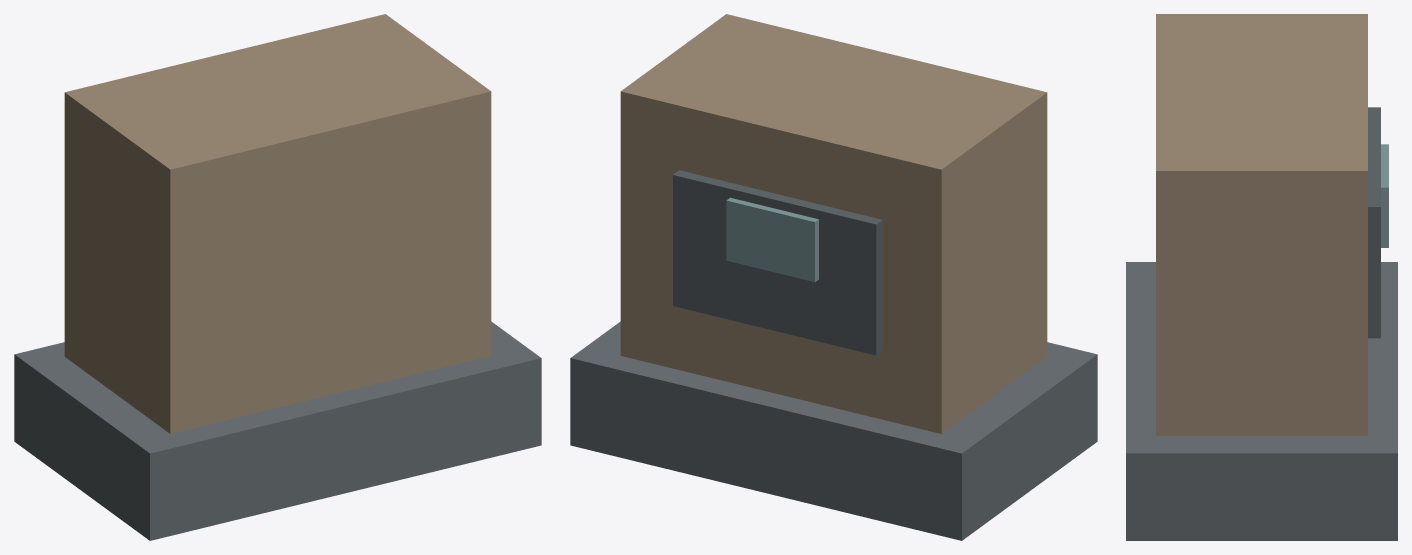
The model's file is iz3_military_generator_02.glb.
3 renders of one model, left to right at view 1: azimuth 30°, elevation 25°; view 2: azimuth 150°, elevation 25°; view 3: azimuth 270°, elevation 25°, orthographic.
Visible parts, largest first — view 1: cabinet, base; view 2: cabinet, base, panel, display; view 3: cabinet, base, panel, display.
Boxes of the visible parts, x1,y1,x2,y2 form: cabinet: [64, 14, 491, 433]; base: [14, 321, 541, 540]; cabinet: [620, 14, 1047, 433]; base: [570, 321, 1097, 540]; panel: [673, 170, 882, 355]; display: [726, 197, 818, 281]; cabinet: [1156, 14, 1367, 435]; base: [1126, 262, 1397, 540]; panel: [1368, 107, 1380, 338]; display: [1381, 144, 1388, 247].
Bounding box in the file's own units: 1.5 × 1.29 × 0.9.
